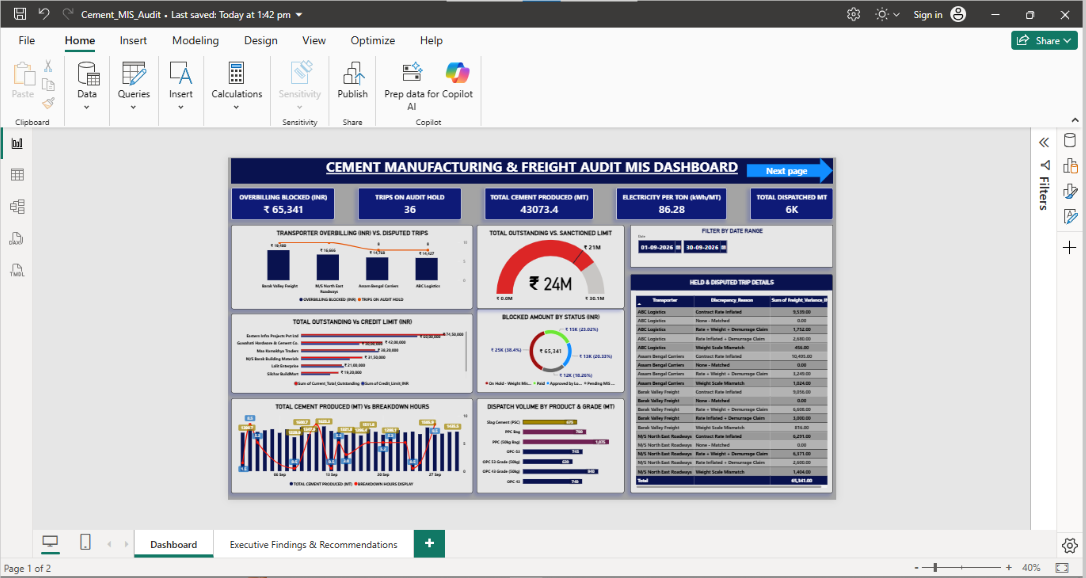

The dashboard page shown, as its layout file describes it:
{"tool":"powerbi","page":{"name":"Dashboard","canvas":[1920,1080],"ordinal":0},"visuals":[{"type":"shape","box":[10.8,3.1,1900,80],"z":0},{"type":"textbox","box":[10.1,0,1899.8,63],"z":1000},{"type":"cardVisual","fields":{"Data":["Measures (2).Overbilling Blocked"]},"box":[10.6,95.7,327.4,102],"z":2000},{"type":"cardVisual","fields":{"Data":["Measures (2).Disputed Trips"]},"box":[409.8,95.7,327.4,102],"z":3000},{"type":"cardVisual","fields":{"Data":["Measures (2).Total Cement Produced"]},"box":[808.9,95.7,344.4,102],"z":4000},{"type":"cardVisual","fields":{"Data":["Measures (2).Electricity Per Ton"]},"box":[1225.1,95.7,350.8,102],"z":5000},{"type":"cardVisual","fields":{"Data":["Measures (2).Total Dispatched MT"]},"box":[1647.6,95.7,263.6,102],"z":6000},{"type":"lineClusteredColumnComboChart","title":"TRANSPORTER OVERBILLING (INR) VS. DISPUTED TRIPS","fields":{"Category":["Data_Freight.Transporter"],"Y":["Measures (2).OVERBILLING BLOCKED (INR)"],"Y2":["Measures (2).TRIPS ON AUDIT HOLD"]},"box":[10.6,212.6,763.2,265.7],"z":7000},{"type":"lineClusteredColumnComboChart","title":"TOTAL CEMENT PRODUCED (MT) Vs BREAKDOWN HOURS","fields":{"Category":["Data_Downtime.Date"],"Y":["Measures (2).TOTAL CEMENT PRODUCED (MT)"],"Y2":["Measures (2).BREAKDOWN HOURS DISPLAY"]},"box":[10.6,759,763.2,299.8],"z":8000},{"type":"clusteredBarChart","title":"TOTAL OUTSTANDING Vs CREDIT LIMIT (INR)","fields":{"Category":["Data_DealerCredit.Official_Dealer_Name"],"Y":["Sum(Data_DealerCredit.Current_Total_Outstanding)","Sum(Data_DealerCredit.Credit_Limit_INR)"]},"box":[10.6,493.2,763.2,250.9],"z":9000},{"type":"tableEx","title":"HELD & DISPUTED TRIP DETAILS","fields":{"Values":["Data_Freight.Transporter","Data_Freight.Discrepancy_Reason","Sum(Data_Freight.Freight_Variance_INR)"]},"box":[1269.2,366.9,639.2,692.3],"z":10000},{"type":"clusteredBarChart","title":"DISPATCH VOLUME BY PRODUCT & GRADE (MT)","fields":{"Category":["Data_Dispatches.Cement_Category","Data_Dispatches.Product_Grade"],"Y":["Measures (2).TOTAL DISPATCHED MT"]},"box":[784.6,759.2,466.2,300],"z":11000},{"type":"donutChart","title":"BLOCKED AMOUNT BY STATUS (INR)","fields":{"Category":["Data_Freight.Approval_Status"],"Y":["Measures (2).OVERBILLING BLOCKED (INR)"]},"box":[784.5,477.8,466.2,265.4],"z":12000},{"type":"gauge","title":"TOTAL OUTSTANDING VS. SANCTIONED LIMIT","fields":{"MaxValue":["Measures (2).Gauge_MAX_SCALE"],"TargetValue":["Sum(Data_DealerCredit.Credit_Limit_INR)"],"Y":["Sum(Data_DealerCredit.Current_Total_Outstanding)"]},"box":[784.5,212.4,466.2,265.4],"z":13000},{"type":"slicer","title":"FILTER BY DATE RANGE","fields":{"Values":["Dim_Date.Date"]},"box":[1269.2,212.6,639.9,133.9],"z":14000},{"type":"shape","box":[1637.5,0,272.5,82.5],"z":14001}]}

Visuals, with their boxes on the page's 1920x1080 design canvas (x1, y1, x2, y2). These are canvas units, not pixel positions in the 1086x578 screenshot, which may show the page scaled, cropped or inside an application window:
shape: [11, 3, 1911, 83]
textbox: [10, 0, 1910, 63]
cardVisual - Measures (2).Overbilling Blocked: [11, 96, 338, 198]
cardVisual - Measures (2).Disputed Trips: [410, 96, 737, 198]
cardVisual - Measures (2).Total Cement Produced: [809, 96, 1153, 198]
cardVisual - Measures (2).Electricity Per Ton: [1225, 96, 1576, 198]
cardVisual - Measures (2).Total Dispatched MT: [1648, 96, 1911, 198]
"TRANSPORTER OVERBILLING (INR) VS. DISPUTED TRIPS" lineClusteredColumnComboChart: [11, 213, 774, 478]
"TOTAL CEMENT PRODUCED (MT) Vs BREAKDOWN HOURS" lineClusteredColumnComboChart: [11, 759, 774, 1059]
"TOTAL OUTSTANDING Vs CREDIT LIMIT (INR)" clusteredBarChart: [11, 493, 774, 744]
"HELD & DISPUTED TRIP DETAILS" tableEx: [1269, 367, 1908, 1059]
"DISPATCH VOLUME BY PRODUCT & GRADE (MT)" clusteredBarChart: [785, 759, 1251, 1059]
"BLOCKED AMOUNT BY STATUS (INR)" donutChart: [784, 478, 1251, 743]
"TOTAL OUTSTANDING VS. SANCTIONED LIMIT" gauge: [784, 212, 1251, 478]
"FILTER BY DATE RANGE" slicer: [1269, 213, 1909, 346]
shape: [1638, 0, 1910, 82]
